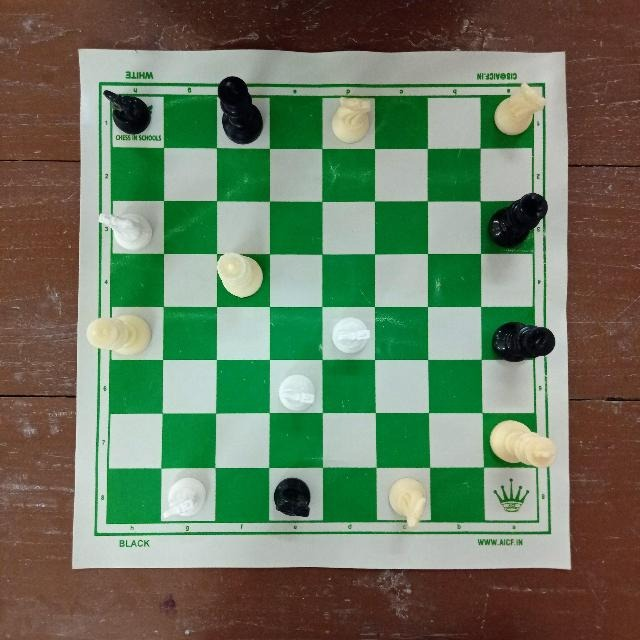black-king: (485, 189, 550, 250), (210, 77, 265, 146), (489, 316, 558, 368)
black-knight: (101, 84, 152, 135), (271, 469, 319, 522)
white-king: (485, 417, 560, 473), (84, 309, 156, 357)
white-knight: (96, 201, 156, 257), (492, 80, 546, 140), (380, 477, 432, 535), (327, 91, 372, 147), (275, 366, 317, 420), (161, 475, 207, 524), (331, 308, 372, 361)
white-queen: (214, 251, 266, 302)
